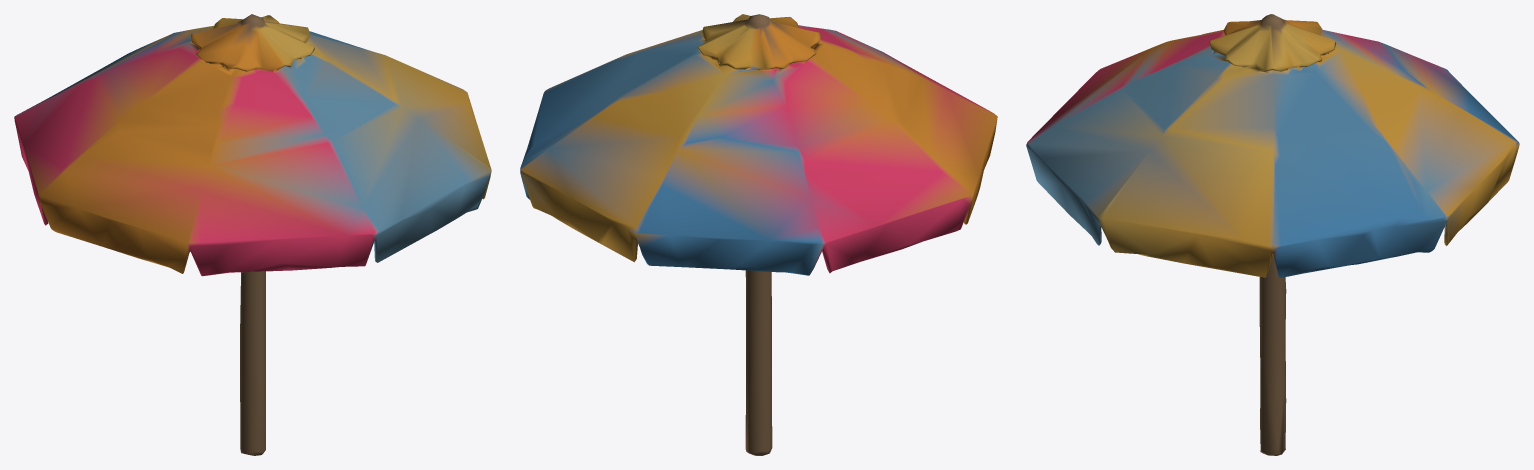
File: gen3d-beach-umbrella-lod1.glb
3 views of the same model, side by side, from view 1: azimuth 30°, elevation 25°; view 2: azimuth 150°, elevation 25°; view 3: azimuth 270°, elevation 25° (orthographic).
Parts seen in each view (by area): view 1: part_0; view 2: part_0; view 3: part_0.
Part boxes in pixels (x1,y1,x2,y2): part_0: [14, 14, 491, 455]; part_0: [520, 14, 997, 455]; part_0: [1026, 14, 1519, 455].
Bounding box in the file's own units: 1.03 × 0.9991 × 1.03.
